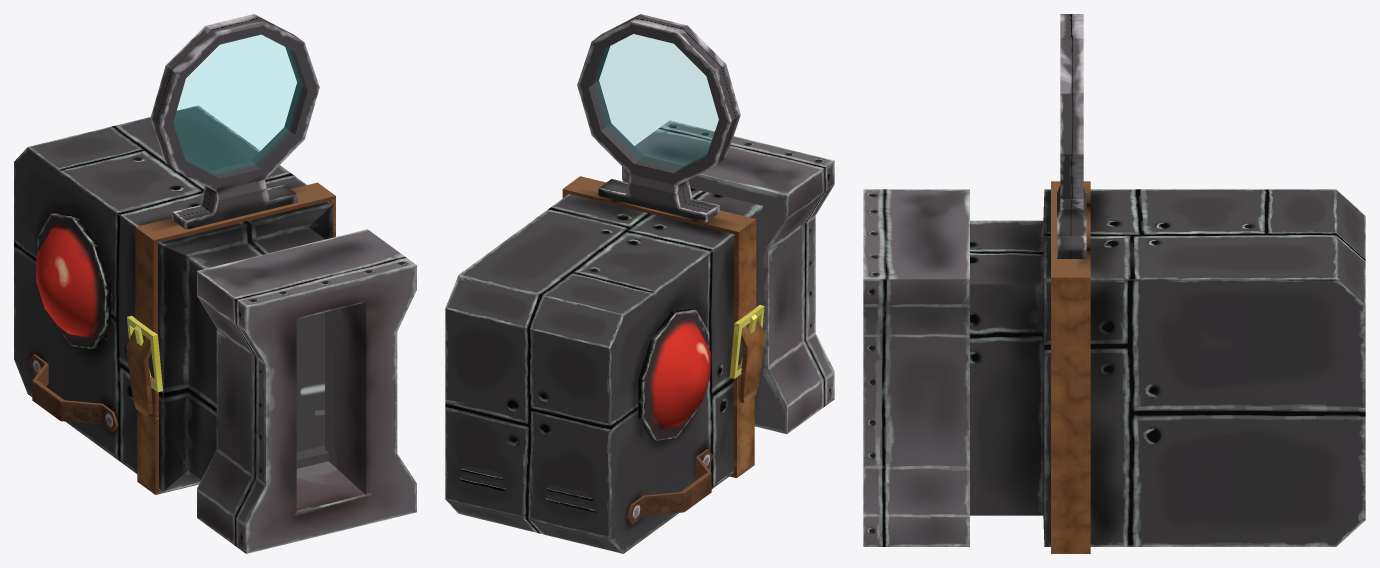
The model's file is LaserGun.fbx.
3 views of the same model, side by side, from view 1: azimuth 30°, elevation 25°; view 2: azimuth 150°, elevation 25°; view 3: azimuth 270°, elevation 25° (orthographic). The views are drawn at different scales.
Visible parts, largest first — view 1: LaserBody, LaserHead, Scope, Belt, Button, Handle; view 2: LaserBody, Scope, LaserHead, Belt, Button, Handle; view 3: LaserBody, LaserHead, Belt, Scope.
Part boxes in pixels (<box>): LaserBody: <box>14,105,333,492</box>; LaserHead: <box>197,229,416,553</box>; Scope: <box>150,14,319,229</box>; Belt: <box>126,182,335,494</box>; Button: <box>36,212,110,348</box>; Handle: <box>29,354,118,432</box>; LaserBody: <box>445,188,762,553</box>; Scope: <box>577,14,740,222</box>; LaserHead: <box>622,120,834,433</box>; Belt: <box>562,176,765,477</box>; Button: <box>638,309,710,440</box>; Handle: <box>626,449,713,524</box>; LaserBody: <box>970,189,1365,546</box>; LaserHead: <box>863,189,969,546</box>; Belt: <box>1051,181,1090,553</box>; Scope: <box>1057,14,1086,258</box>.
Bounding box in the file's own units: 24.71 × 49.52 × 47.1.
